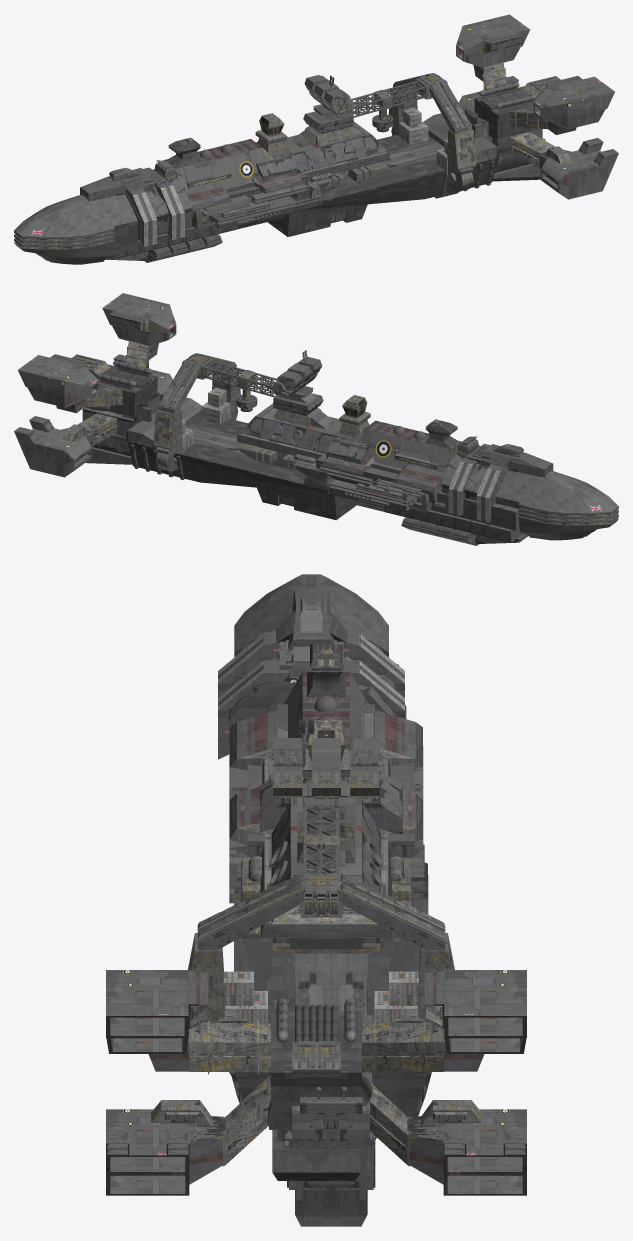
The model's file is battleship-british.glb.
The picture shows the model from 3 angles, top to bottom: view 1: azimuth 30°, elevation 25°; view 2: azimuth 150°, elevation 25°; view 3: azimuth 270°, elevation 25°; orthographic projection. The views are drawn at different scales.
Visible parts, largest first — view 1: Object_58, Object_8, Object_79, Object_41, Object_40, Object_3, Object_70, Object_57, Object_6, Object_34, Object_47, Object_75 (+27 smaller); view 2: Object_8, Object_58, Object_79, Object_41, Object_40, Object_3, Object_6, Object_70, Object_34, Object_47, Object_75, Object_57 (+27 smaller); view 3: Object_58, Object_70, Object_8, Object_57, Object_6, Object_79, Object_41, Object_59, Object_3, Object_34, Object_75, Object_40 (+22 smaller).
Part boxes in pixels (x1,y1,x2,y2): Object_58: (456, 14, 614, 199); Object_8: (112, 125, 498, 259); Object_79: (27, 167, 172, 264); Object_41: (175, 75, 370, 221); Object_40: (165, 137, 390, 229); Object_3: (14, 160, 176, 263); Object_70: (479, 62, 570, 167); Object_57: (474, 86, 541, 171); Object_6: (145, 108, 496, 262); Object_34: (176, 80, 389, 218); Object_47: (274, 85, 387, 173); Object_75: (374, 73, 476, 198); Object_8: (126, 409, 515, 542); Object_58: (18, 293, 176, 477); Object_79: (460, 443, 605, 540); Object_41: (256, 357, 451, 502); Object_40: (237, 419, 460, 510); Object_3: (457, 436, 618, 539); Object_6: (83, 392, 525, 545); Object_70: (62, 341, 153, 445); Object_34: (237, 362, 457, 499); Object_47: (239, 367, 352, 454); Object_75: (153, 353, 255, 464); Object_57: (98, 364, 157, 419); Object_58: (106, 970, 526, 1195); Object_70: (151, 998, 481, 1164); Object_8: (234, 705, 428, 1226); Object_57: (268, 1004, 361, 1180); Object_6: (247, 664, 415, 1189); Object_79: (228, 584, 388, 729); Object_41: (229, 672, 423, 938); Object_59: (148, 970, 484, 1184); Object_3: (218, 574, 404, 759); Object_34: (229, 748, 423, 953); Object_75: (191, 835, 451, 1075); Object_40: (229, 644, 422, 936).
Size of the model in its own units: 66.13 by 17.57 by 22.04.
Materials: 89 (89 with a texture image).
